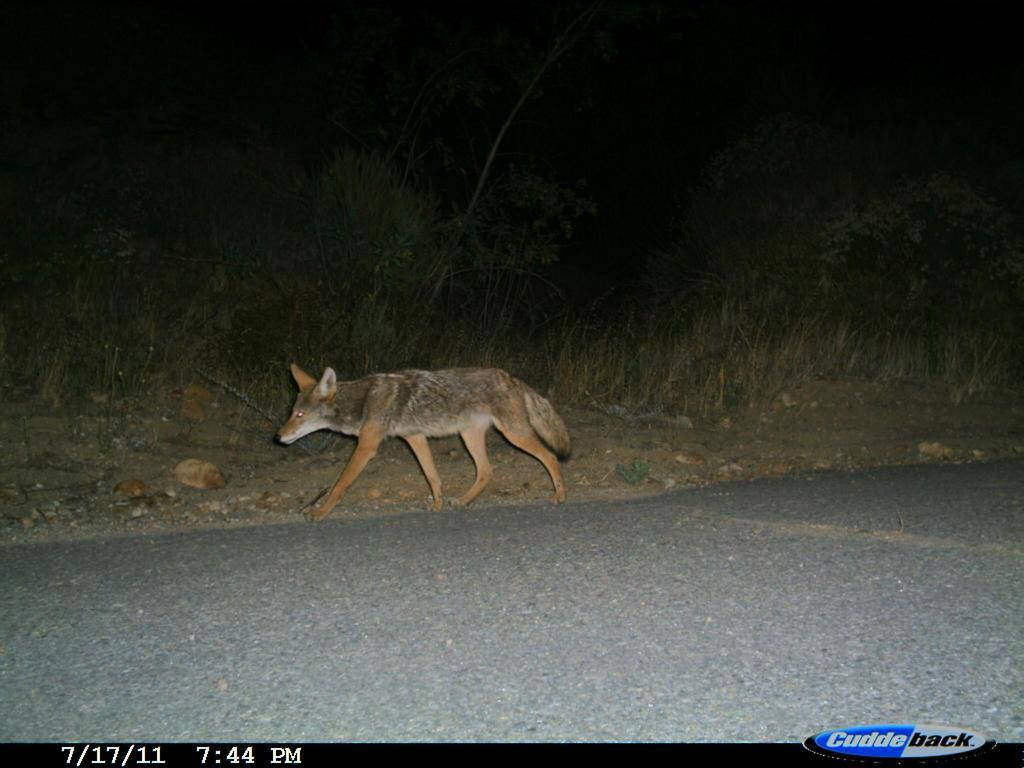coyote: (274, 355, 587, 529)
